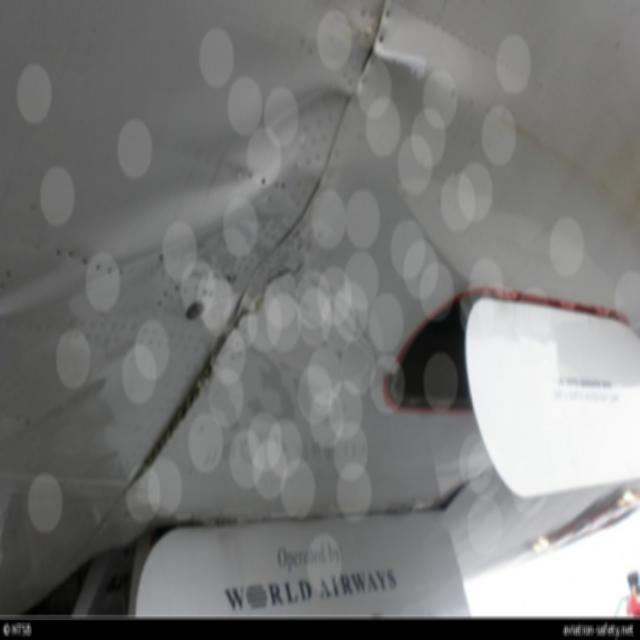crack: (231, 256, 307, 332)
dent: (2, 84, 356, 316)
